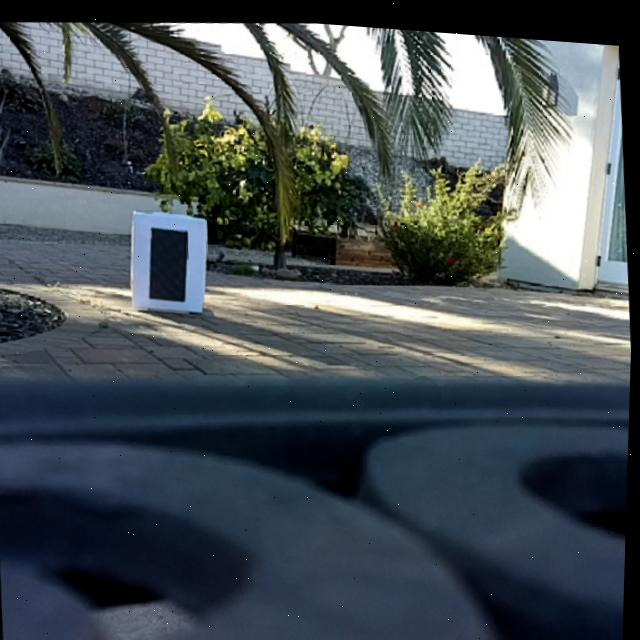led: (153, 219, 193, 300)
